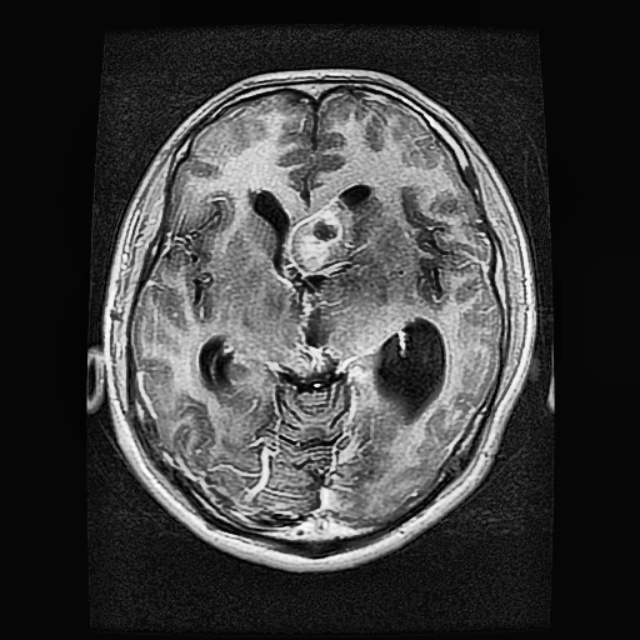Glioma: (282, 194, 362, 282)
